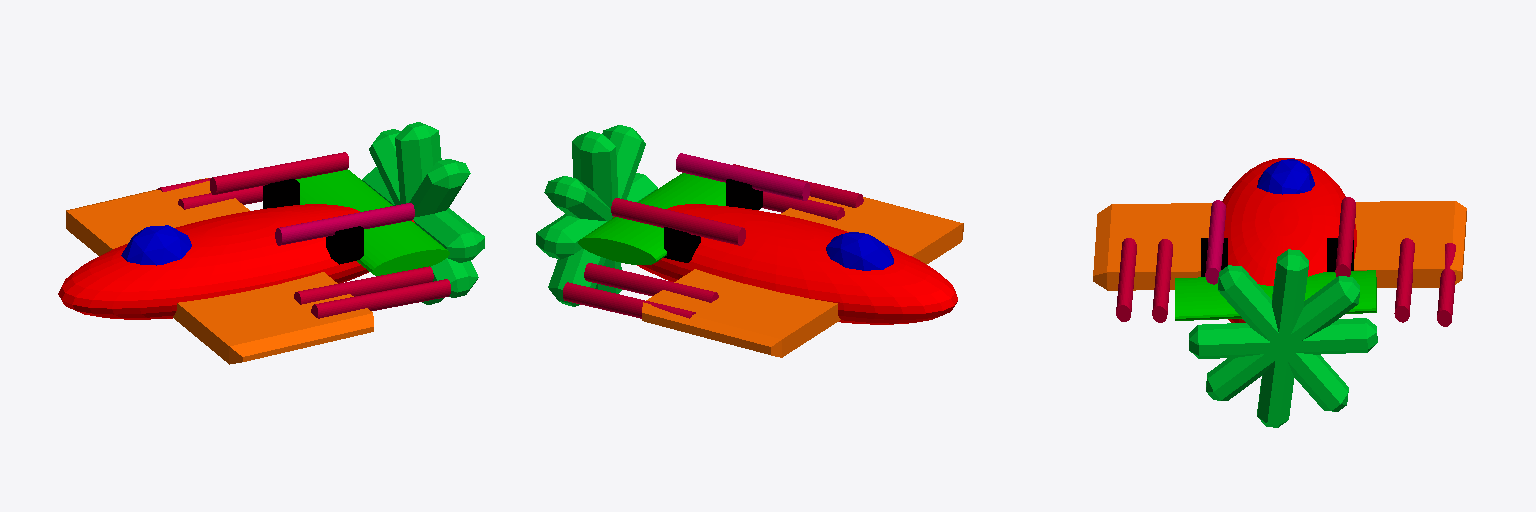
File: boss5.obj
The picture shows the model from 3 angles: view 1: azimuth 30°, elevation 25°; view 2: azimuth 150°, elevation 25°; view 3: azimuth 270°, elevation 25°; orthographic projection.
Parts seen in each view (by area): view 1: Sphere, Cube.002_Cube.003, Cube.006_wheel, Cylinder, Cylinder.001_gun3, Cylinder.002_gun4, Cylinder.006_gun6, Icosphere, Cylinder.005_gun5, Cube_Cube.001, Cube.001_Cube.002, Cylinder.004_gun2; view 2: Sphere, Cube.002_Cube.003, Cube.006_wheel, Cylinder, Cylinder.001_gun3, Cylinder.002_gun4, Cylinder.004_gun2, Icosphere, Cylinder.003_gun1, Cylinder.005_gun5, Cube.001_Cube.002, Cube_Cube.001 (+1 smaller); view 3: Cube.006_wheel, Cube.002_Cube.003, Sphere, Cylinder, Icosphere, Cylinder.006_gun6, Cylinder.005_gun5, Cylinder.002_gun4, Cylinder.004_gun2, Cylinder.001_gun3, Cylinder.003_gun1.
Boxes of the visible parts, x1=… form: Sphere: x1=58, y1=204, x2=414, y2=319; Cube.002_Cube.003: x1=66, y1=178, x2=373, y2=364; Cube.006_wheel: x1=362, y1=122, x2=484, y2=304; Cylinder: x1=296, y1=169, x2=449, y2=275; Cylinder.001_gun3: x1=210, y1=152, x2=348, y2=194; Cylinder.002_gun4: x1=275, y1=203, x2=414, y2=245; Cylinder.006_gun6: x1=311, y1=279, x2=450, y2=318; Icosphere: x1=121, y1=225, x2=191, y2=265; Cylinder.005_gun5: x1=294, y1=266, x2=433, y2=304; Cube_Cube.001: x1=326, y1=226, x2=363, y2=264; Cube.001_Cube.002: x1=263, y1=179, x2=299, y2=208; Cylinder.004_gun2: x1=178, y1=186, x2=262, y2=209; Sphere: x1=613, y1=204, x2=957, y2=324; Cube.002_Cube.003: x1=642, y1=196, x2=963, y2=357; Cube.006_wheel: x1=536, y1=125, x2=657, y2=306; Cylinder: x1=578, y1=173, x2=725, y2=264; Cylinder.001_gun3: x1=611, y1=198, x2=745, y2=245; Cylinder.002_gun4: x1=676, y1=153, x2=810, y2=200; Cylinder.004_gun2: x1=584, y1=263, x2=718, y2=302; Icosphere: x1=826, y1=232, x2=893, y2=270; Cylinder.003_gun1: x1=563, y1=282, x2=695, y2=318; Cylinder.005_gun5: x1=762, y1=192, x2=844, y2=220; Cube.001_Cube.002: x1=664, y1=227, x2=700, y2=262; Cube_Cube.001: x1=726, y1=179, x2=762, y2=209; Cube.006_wheel: x1=1189, y1=249, x2=1377, y2=427; Cube.002_Cube.003: x1=1093, y1=201, x2=1466, y2=290; Sphere: x1=1222, y1=158, x2=1356, y2=322; Cylinder: x1=1175, y1=270, x2=1376, y2=320; Icosphere: x1=1257, y1=159, x2=1314, y2=194; Cylinder.006_gun6: x1=1116, y1=238, x2=1136, y2=321; Cylinder.005_gun5: x1=1152, y1=239, x2=1172, y2=322; Cylinder.002_gun4: x1=1205, y1=200, x2=1225, y2=284; Cylinder.004_gun2: x1=1394, y1=238, x2=1414, y2=322; Cylinder.001_gun3: x1=1335, y1=197, x2=1355, y2=276; Cylinder.003_gun1: x1=1437, y1=243, x2=1455, y2=326.
Size of the model in its own units: 8.32 by 3.59 by 7.08.